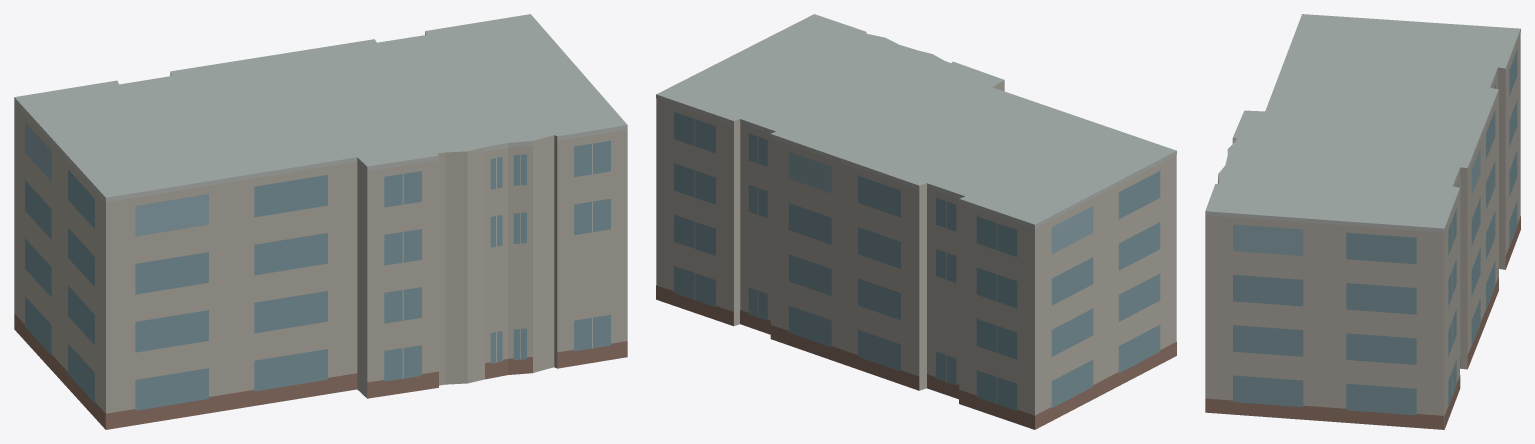
File: survey-upis-33036164.glb
3 views of the same model, side by side, from view 1: azimuth 30°, elevation 25°; view 2: azimuth 150°, elevation 25°; view 3: azimuth 270°, elevation 25° (orthographic). The views are drawn at different scales.
Parts seen in each view (by area): view 1: survey-upis-33036164.tmp; view 2: survey-upis-33036164.tmp; view 3: survey-upis-33036164.tmp.
Part boxes in pixels (x1,y1,x2,y2): survey-upis-33036164.tmp: (14,14,627,429); survey-upis-33036164.tmp: (656,14,1176,429); survey-upis-33036164.tmp: (1205,14,1520,429).
Bounding box in the file's own units: 28.35 × 12.4 × 17.62.
